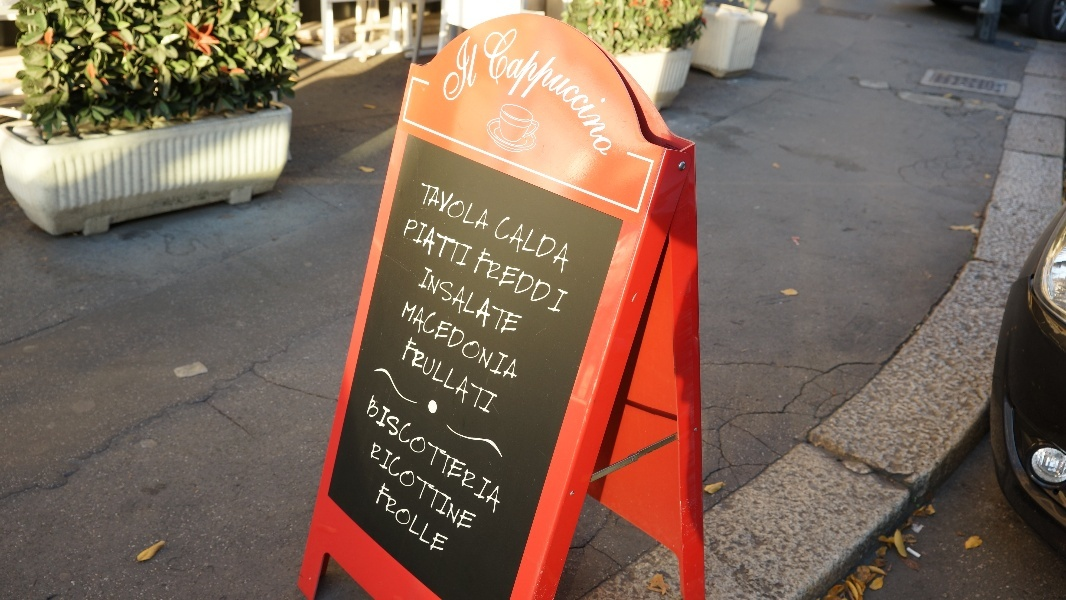text: (513, 19, 528, 162), (529, 19, 544, 162), (545, 19, 560, 162), (561, 19, 576, 162), (577, 19, 592, 162), (593, 19, 608, 162), (609, 19, 624, 162), (385, 393, 400, 516), (401, 393, 416, 516), (417, 393, 432, 516), (433, 393, 448, 516), (449, 393, 464, 516), (465, 393, 480, 516), (481, 393, 496, 516), (372, 393, 384, 516), (385, 439, 400, 535), (401, 439, 416, 535), (417, 439, 432, 535), (433, 439, 448, 535), (449, 439, 464, 535), (417, 299, 432, 386), (433, 299, 448, 386), (449, 299, 464, 386), (465, 299, 480, 386), (481, 299, 496, 386), (497, 299, 512, 386), (625, 19, 634, 162), (417, 337, 432, 420), (433, 337, 448, 420), (449, 337, 464, 420), (465, 337, 480, 420), (481, 337, 496, 420), (433, 266, 448, 346), (449, 266, 464, 346), (465, 266, 480, 346), (481, 266, 496, 346), (497, 266, 512, 346), (385, 482, 400, 559), (401, 482, 416, 559), (417, 482, 432, 559), (433, 482, 448, 559), (465, 439, 477, 535), (449, 36, 464, 107), (465, 36, 480, 107), (497, 247, 512, 314), (513, 247, 528, 314), (529, 247, 544, 314), (545, 247, 560, 314), (417, 215, 432, 278), (433, 215, 448, 278), (449, 215, 464, 278), (435, 36, 448, 107), (513, 215, 528, 274), (529, 215, 544, 274), (545, 215, 560, 274), (561, 215, 576, 274), (483, 247, 496, 314), (375, 439, 384, 535), (497, 393, 504, 516), (433, 180, 448, 232), (449, 180, 464, 232), (465, 180, 480, 232), (481, 180, 495, 232), (513, 266, 522, 346), (409, 299, 416, 386), (508, 19, 512, 162), (425, 266, 432, 346), (422, 180, 432, 232), (465, 215, 473, 278), (410, 337, 416, 420), (561, 247, 568, 314), (505, 215, 512, 274), (410, 215, 416, 278), (481, 36, 486, 107), (513, 299, 517, 386), (449, 482, 452, 559), (497, 337, 499, 420), (382, 482, 384, 559)
